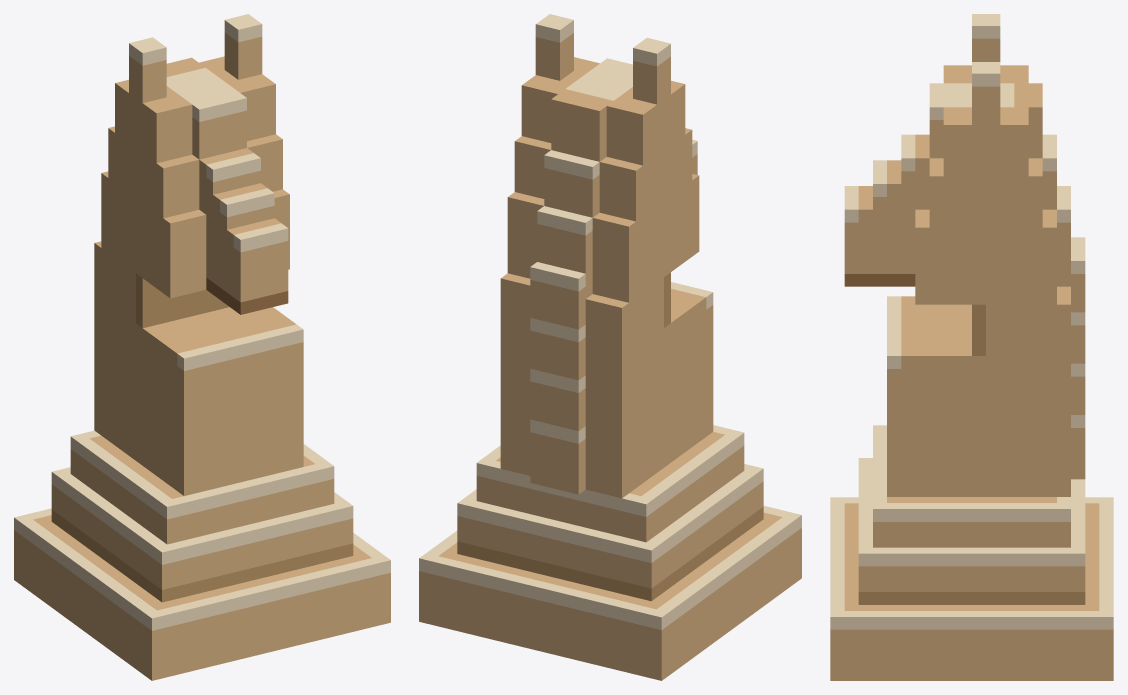
File: knight.obj
3 renders of one model, left to right at view 1: azimuth 30°, elevation 25°; view 2: azimuth 150°, elevation 25°; view 3: azimuth 270°, elevation 25°, orthographic. The views are drawn at different scales.
Visible parts, largest first — view 1: knight; view 2: knight; view 3: knight.
Boxes of the visible parts, <box> form: knight: <box>14,14,390,680</box>; knight: <box>419,14,801,680</box>; knight: <box>830,14,1113,680</box>.
Bounding box in the file's own units: 0.42 × 0.945 × 0.42.
1 material, 1 textured.
